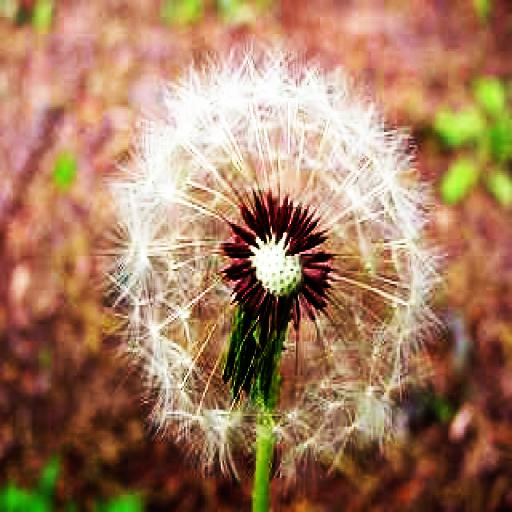dandelion: (109, 47, 440, 488)
